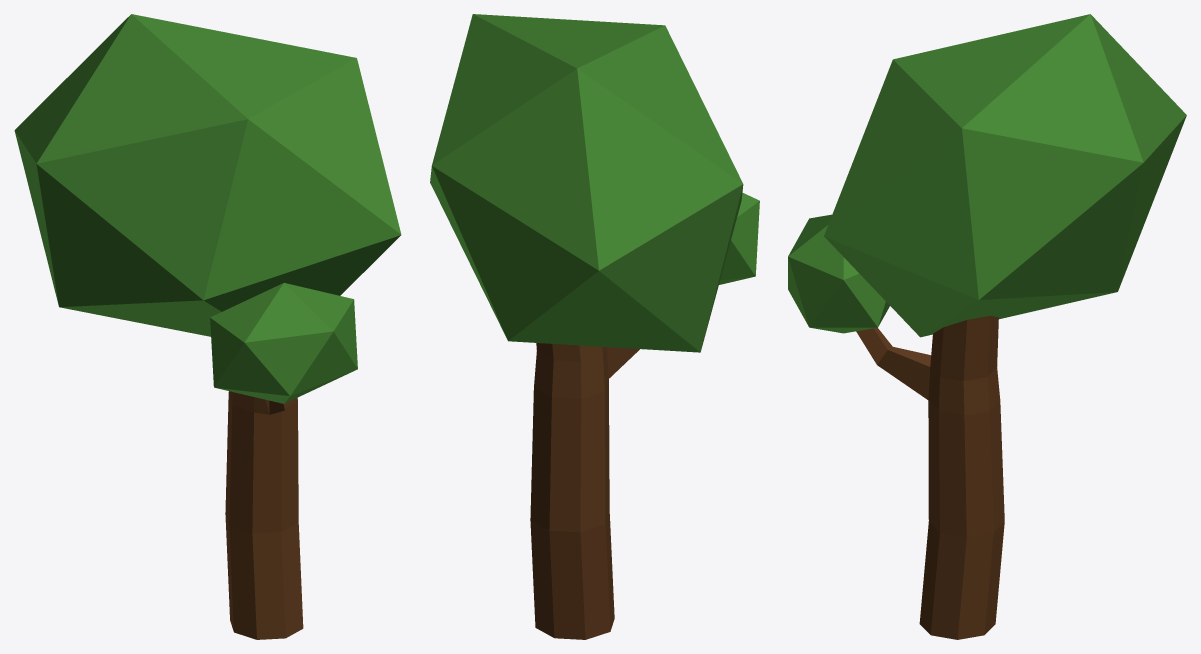
Rendered from Tree2.fbx.
3 renders of one model, left to right at view 1: azimuth 30°, elevation 25°; view 2: azimuth 150°, elevation 25°; view 3: azimuth 270°, elevation 25°, orthographic. The views are drawn at different scales.
Visible parts, largest first — view 1: Tree 1; view 2: Tree 1; view 3: Tree 1.
Part boxes in pixels (box(x1,y1,x2,y2)): Tree 1: box(14, 14, 401, 639); Tree 1: box(430, 14, 759, 639); Tree 1: box(788, 14, 1186, 639).
Bounding box in the file's own units: 643 × 1123 × 704.
